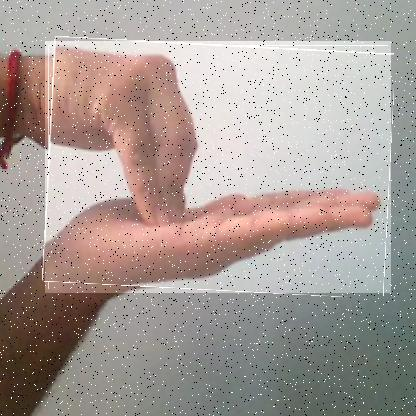Z: (45, 41, 392, 294)
